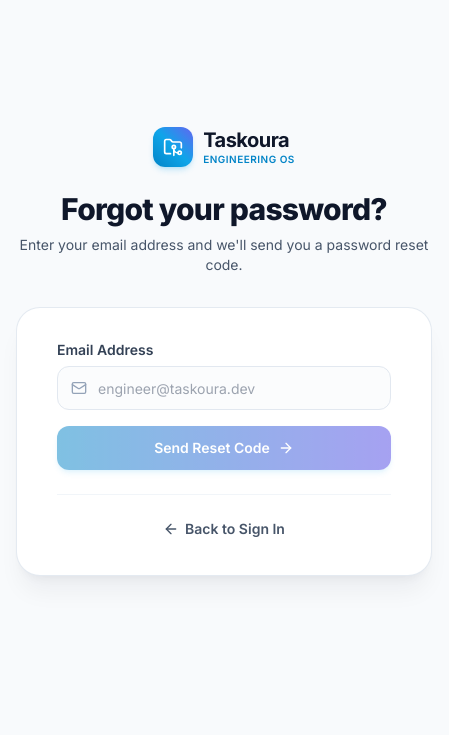
Test: MODULE F16: Profile and Password Reset › ForgotPasswordPage: Identical UI for Known and Unknown Emails › submitting known email displays backend message and navigates to reset password page
Type "known@taskoura.dev" into the field with test id "input-forgot-email".
click(224, 388); type("known@taskoura.dev")  # box [57,366,391,410]
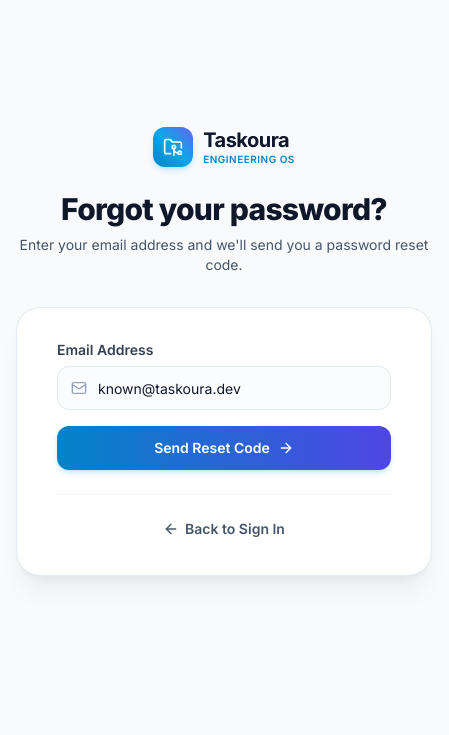
Click the button with test id "btn-forgot-submit".
click(224, 448)  # box [57,426,391,470]
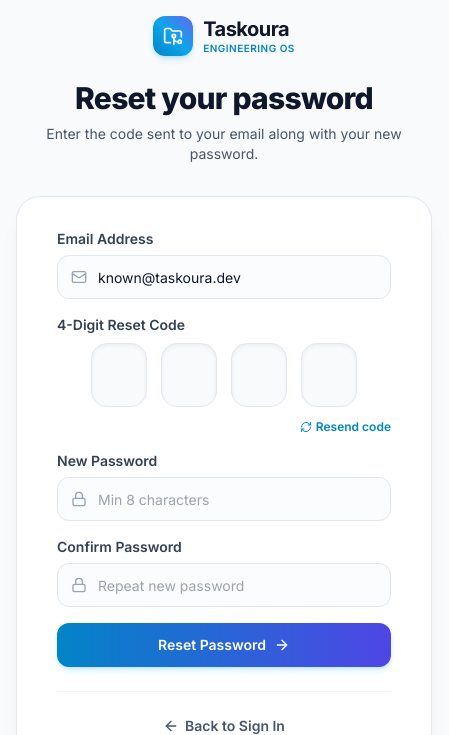
Check: the field with test id "input-reset-email" holds "known@taskoura.dev", box [57,255,391,299]
